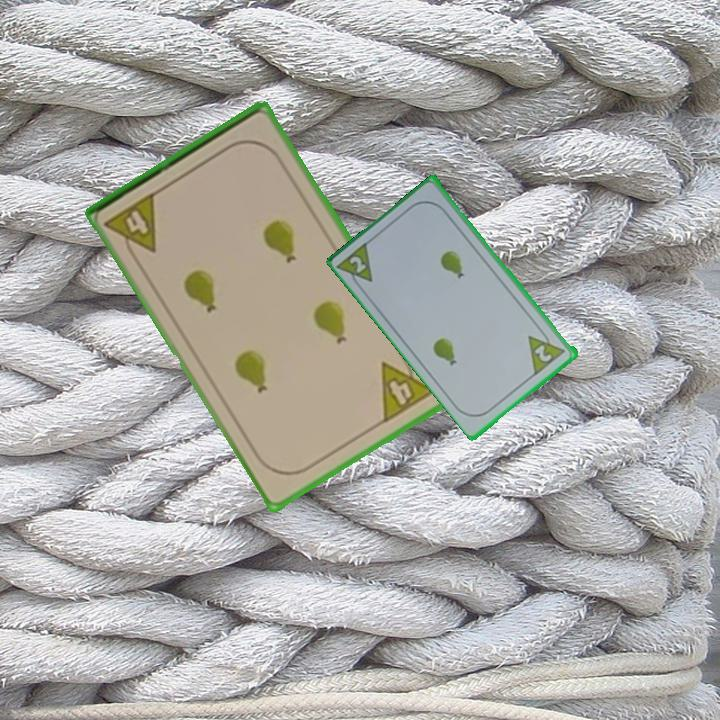2p: (335, 237, 376, 294), (531, 341, 555, 365)
4p: (100, 188, 161, 265), (377, 348, 437, 426)
